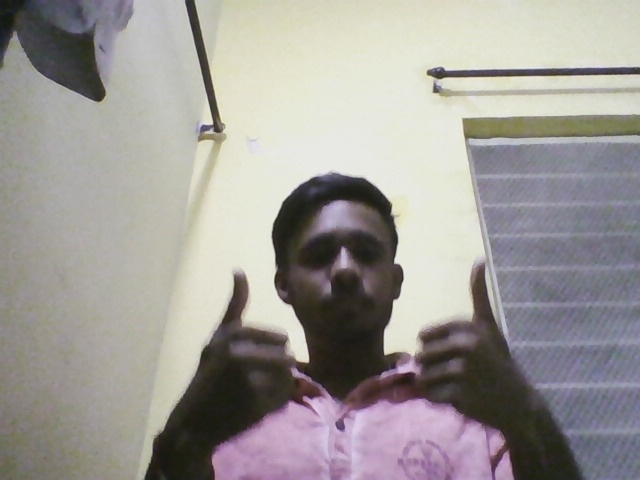thankyou: (188, 252, 538, 436)
